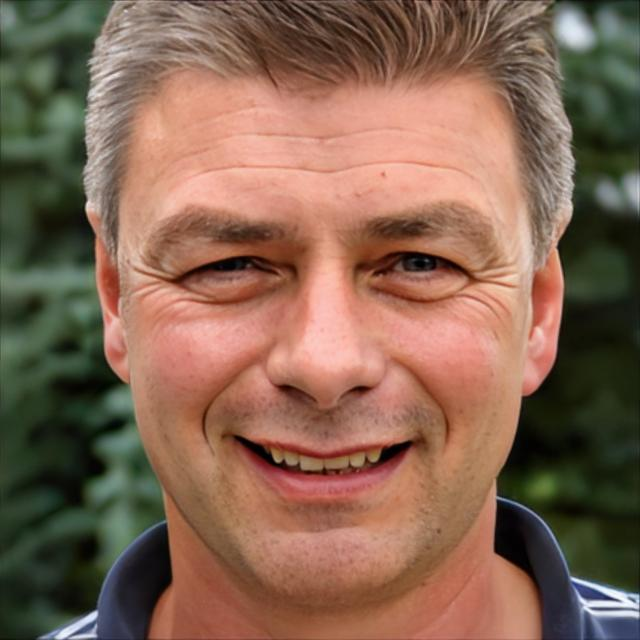content: (116, 37, 530, 608)
